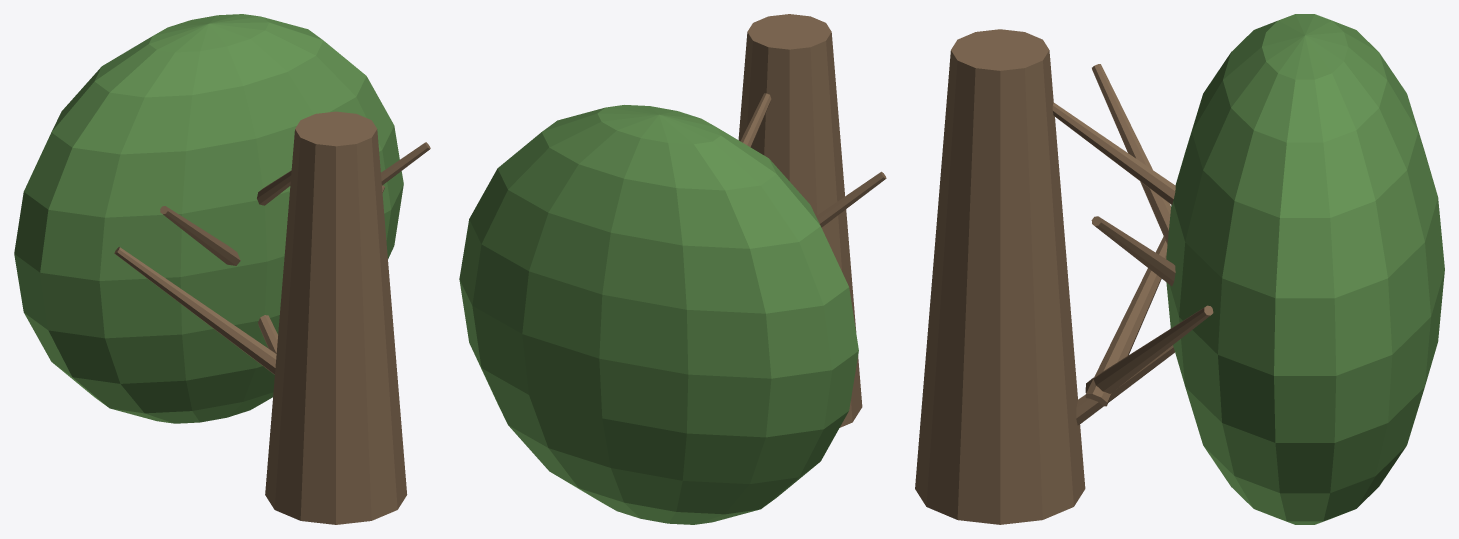
File: whomping_willow.glb
3 renders of one model, left to right at view 1: azimuth 30°, elevation 25°; view 2: azimuth 150°, elevation 25°; view 3: azimuth 270°, elevation 25°, orthographic. The views are drawn at different scales.
Parts seen in each view (by area): view 1: crown, trunk, arm_4, arm_5, arm_1, arm_0; view 2: crown, trunk, arm_5, arm_0; view 3: crown, trunk, arm_4, arm_2, arm_0, arm_5, arm_1, arm_3.
Part boxes in pixels (<box>): crown: <box>14,14,403,423</box>; trunk: <box>265,111,407,524</box>; arm_4: <box>114,247,276,374</box>; arm_5: <box>160,206,240,265</box>; arm_1: <box>381,142,430,185</box>; arm_0: <box>257,170,291,205</box>; crown: <box>459,105,858,524</box>; trunk: <box>738,14,862,427</box>; arm_5: <box>816,171,886,227</box>; arm_0: <box>740,93,771,147</box>; crown: <box>1166,14,1444,524</box>; trunk: <box>915,29,1085,524</box>; arm_4: <box>1085,236,1167,406</box>; arm_2: <box>1085,305,1213,393</box>; arm_0: <box>1052,102,1175,204</box>; arm_5: <box>1092,64,1170,244</box>; arm_1: <box>1091,216,1175,286</box>; arm_3: <box>1076,345,1174,425</box>.
Size of the model in its own units: 5.62 by 5.76 by 5.91.
